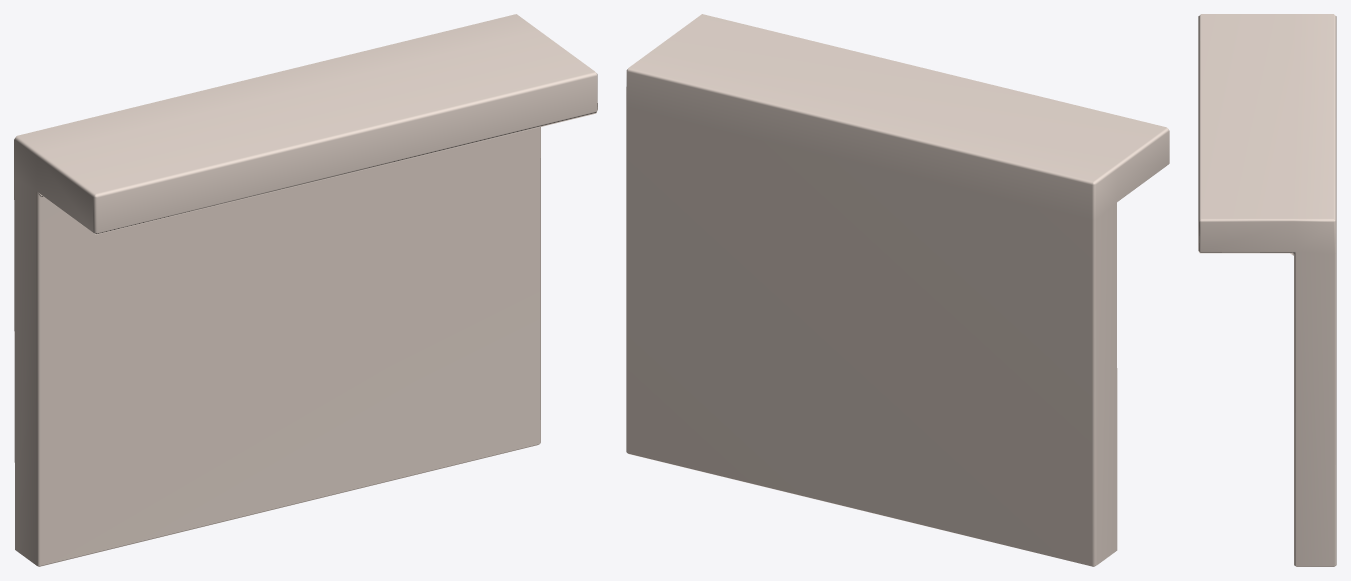
File: Wall_28.glb
3 renders of one model, left to right at view 1: azimuth 30°, elevation 25°; view 2: azimuth 150°, elevation 25°; view 3: azimuth 270°, elevation 25°, orthographic. The views are drawn at different scales.
Visible parts, largest first — view 1: Wall_28; view 2: Wall_28; view 3: Wall_28.
Boxes of the visible parts, x1=… form: Wall_28: x1=14, y1=14, x2=597, y2=566; Wall_28: x1=626, y1=14, x2=1169, y2=566; Wall_28: x1=1198, y1=14, x2=1336, y2=566.
Size of the model in its own units: 4.6 by 3.61 by 1.3.
1 material, 1 textured.
